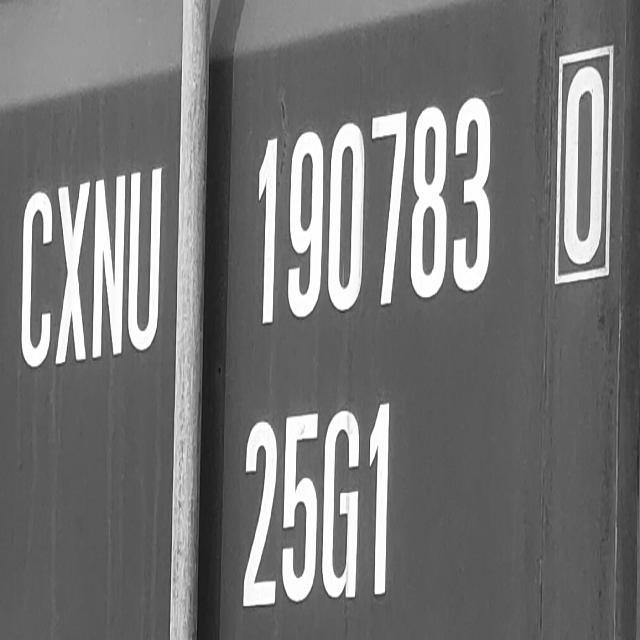dv: (540, 27, 616, 287)
owner: (8, 165, 173, 374)
serial: (242, 94, 497, 341)
size: (237, 387, 397, 620)
